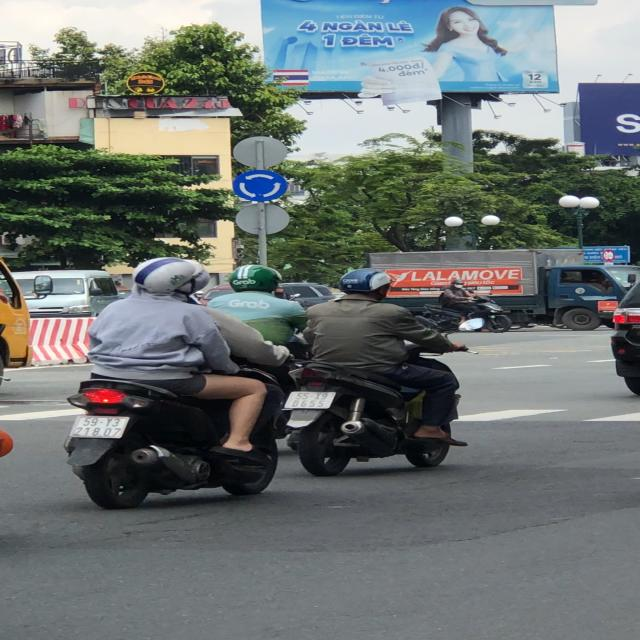Bien bao noi giao nhau chay theo vong xuyen: (228, 168, 294, 203)
